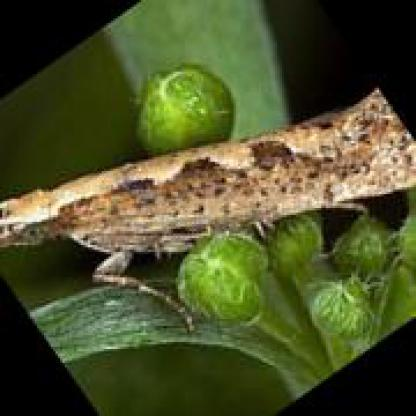plutella: (0, 81, 414, 339)
